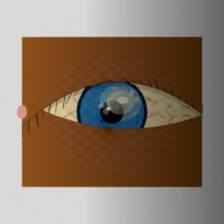corneal_ulcer: (98, 85, 142, 120)
